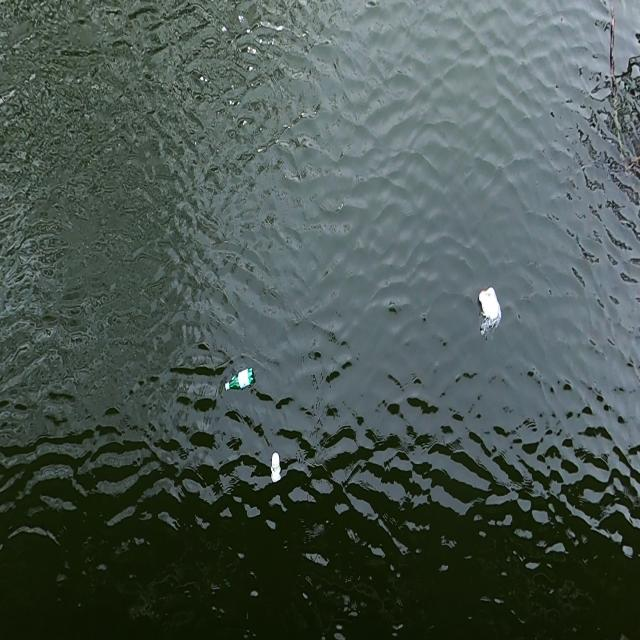Bouteille plastique: (220, 364, 261, 399)
